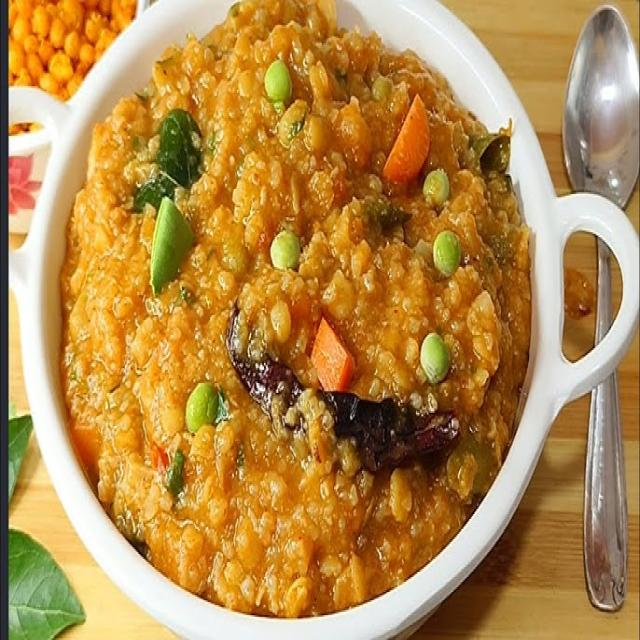bisibele bath: (16, 0, 633, 637)
